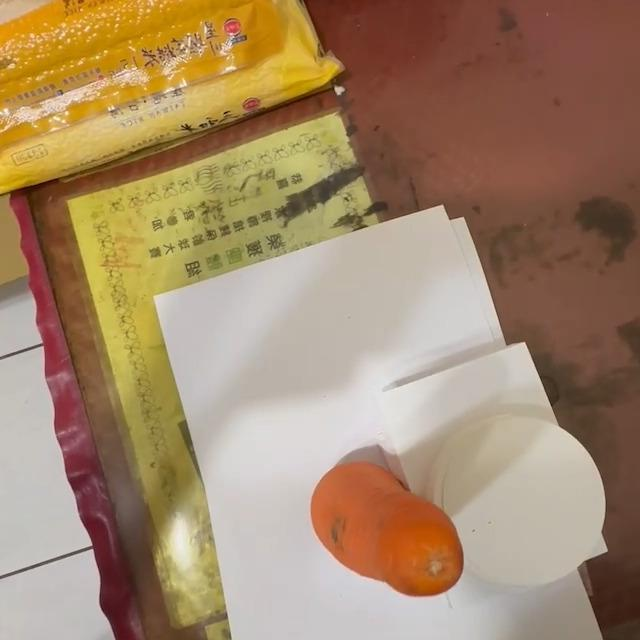carrot: (311, 460, 468, 600)
